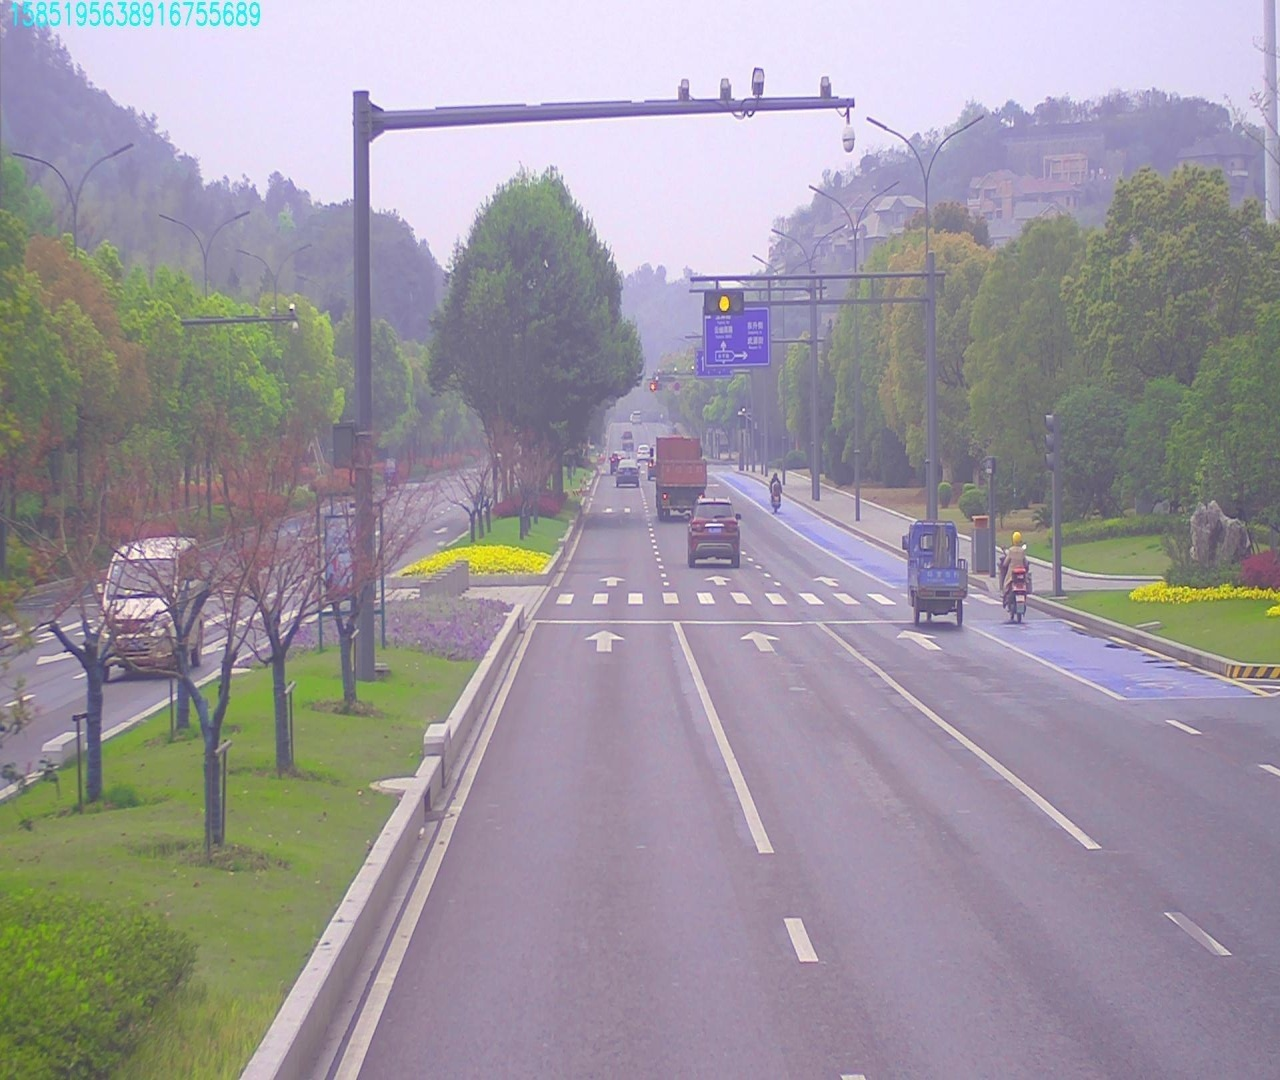yellow: (706, 292, 748, 314)
